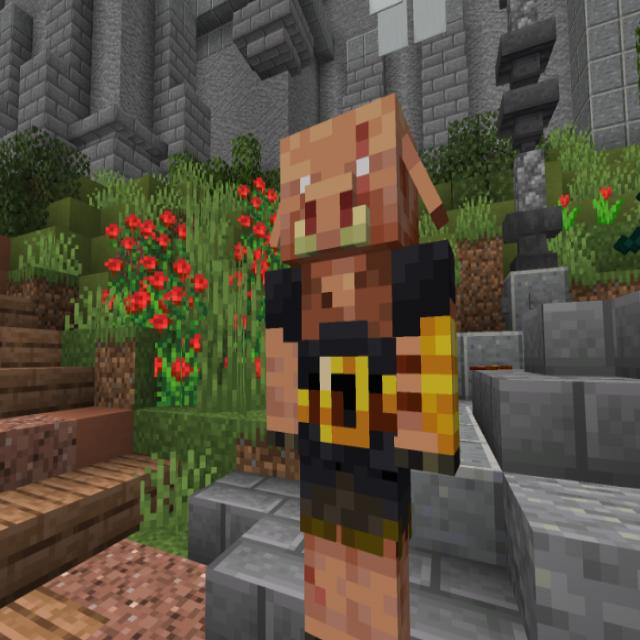Piglin: (263, 93, 462, 638)
